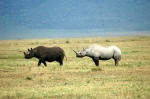rhino: (97, 55, 146, 78), (45, 56, 90, 77)
